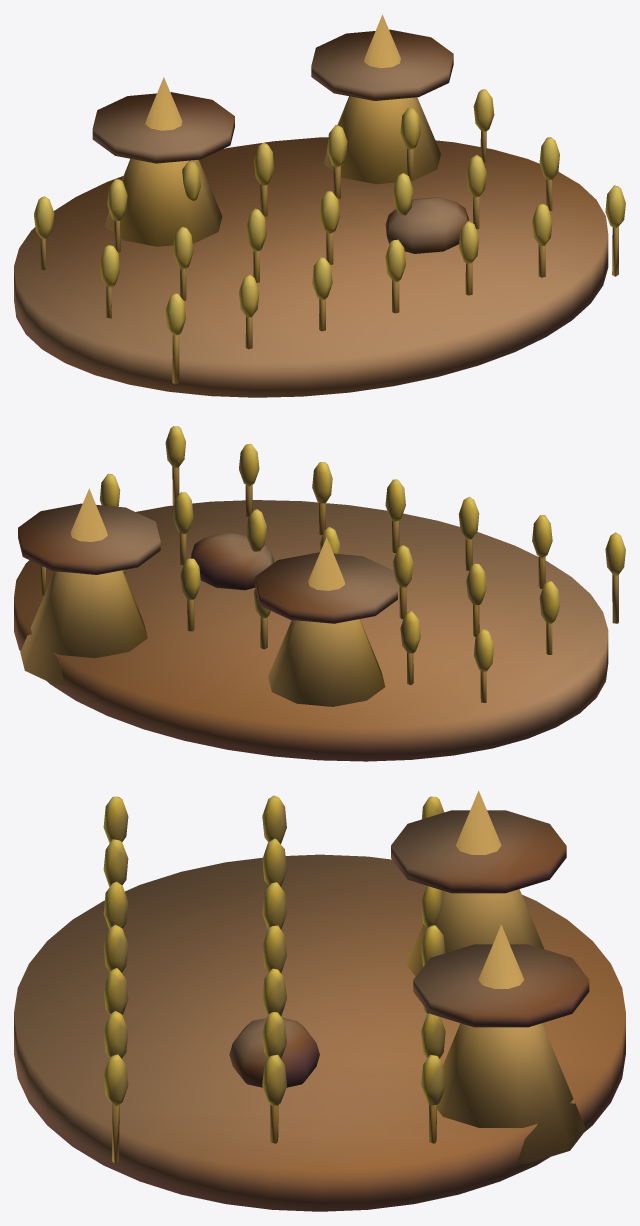
The model's file is harvest.glb.
The picture shows the model from 3 angles, top to bottom: view 1: azimuth 30°, elevation 25°; view 2: azimuth 150°, elevation 25°; view 3: azimuth 270°, elevation 25°; orthographic projection. The views are drawn at different scales.
Parts seen in each view (by area): view 1: harvest; view 2: harvest; view 3: harvest.
Boxes of the visible parts, box(x1,y1,x2,y2) form: harvest: box(14, 14, 625, 397); harvest: box(14, 426, 625, 761); harvest: box(14, 790, 625, 1211).
Bounding box in the file's own units: 6.6 × 2.1 × 5.4.
